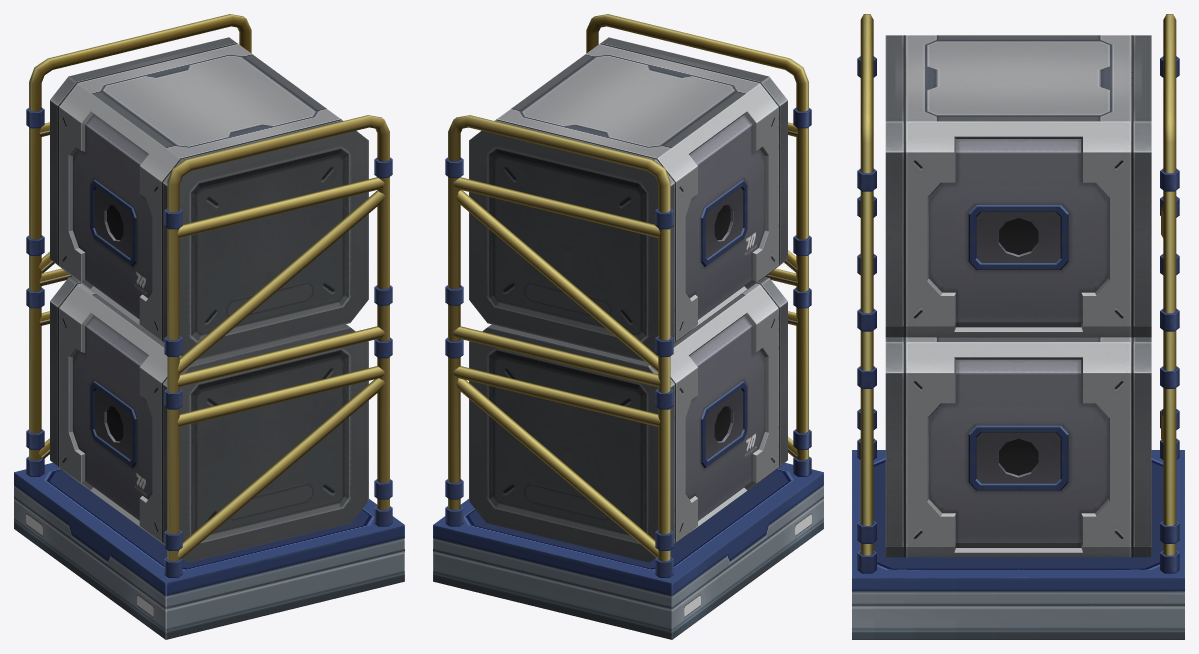
Rendered from my_carrier_01_box_02.glb.
The picture shows the model from 3 angles, left to right: view 1: azimuth 30°, elevation 25°; view 2: azimuth 150°, elevation 25°; view 3: azimuth 270°, elevation 25°; orthographic projection. The views are drawn at different scales.
Visible parts, largest first — view 1: my_carrier_01_box_02; view 2: my_carrier_01_box_02; view 3: my_carrier_01_box_02.
Boxes of the visible parts, bbox=[...] form: my_carrier_01_box_02: bbox=[14, 14, 404, 639]; my_carrier_01_box_02: bbox=[433, 14, 823, 639]; my_carrier_01_box_02: bbox=[852, 14, 1184, 639].
Bounding box in the file's own units: 0.00841 × 0.0157 × 0.00924.
Materials: 1 (1 with a texture image).
